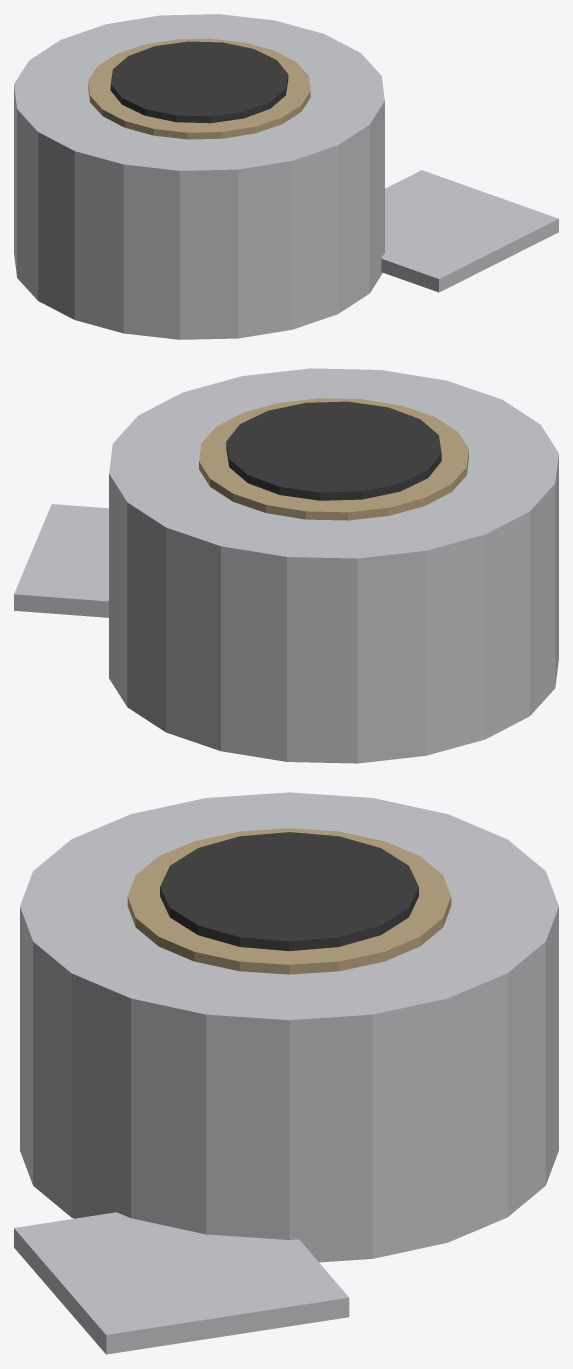
The model's file is Loot_DuctTape.fbx.
3 views of the same model, one above another, from view 1: azimuth 30°, elevation 25°; view 2: azimuth 150°, elevation 25°; view 3: azimuth 270°, elevation 25° (orthographic). The views are drawn at different scales.
Parts seen in each view (by area): view 1: Loot_DuctTape; view 2: Loot_DuctTape; view 3: Loot_DuctTape.
Boxes of the visible parts, x1,y1,x2,y2 form: Loot_DuctTape: (14,14,558,339); Loot_DuctTape: (14,368,558,763); Loot_DuctTape: (14,792,558,1354).
Bounding box in the file's own units: 0.1417 × 0.054 × 0.1011.
